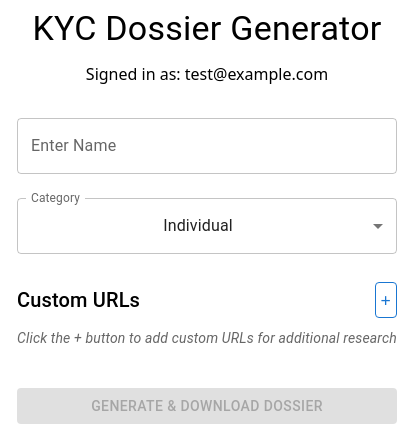
Test case: App Integration › submit button is enabled when name is provided
Type "John Doe" into the field labelled "Enter Name".
click(207, 146); type("John Doe")  # box top-left (17, 118), bottom-right (397, 174)
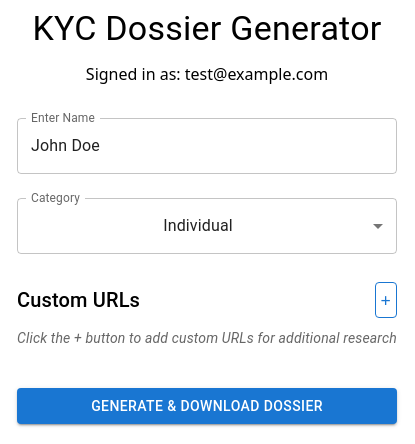
Expected: the button "Generate & Download Dossier" is enabled, top-left (17, 388), bottom-right (397, 424)
